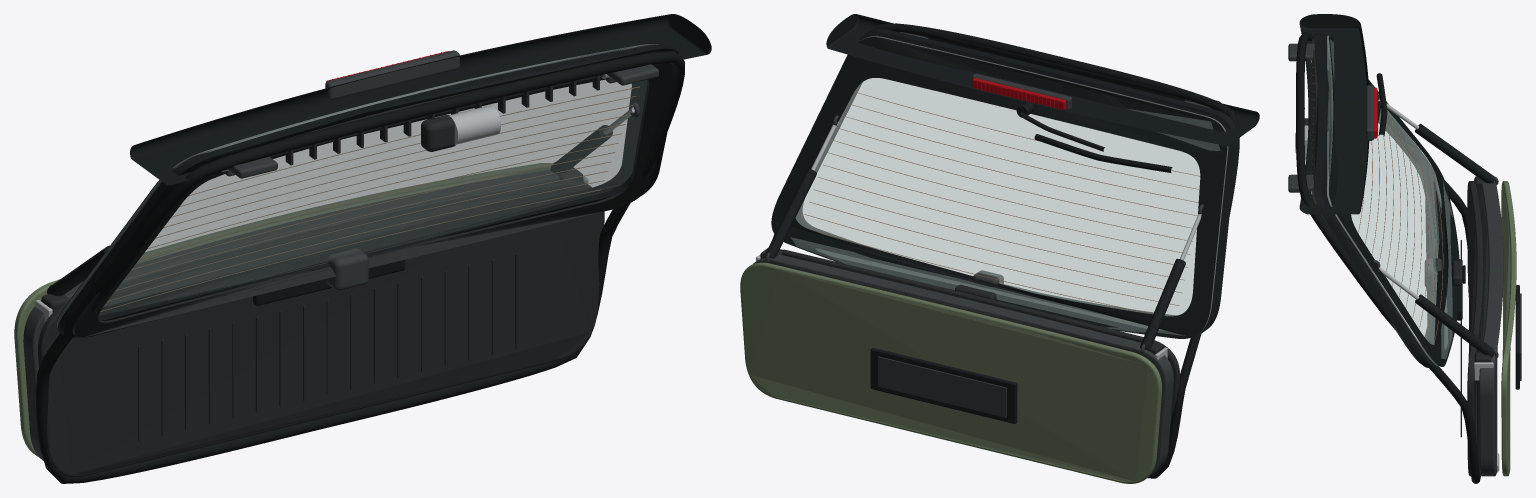
3 renders of one model, left to right at view 1: azimuth 30°, elevation 25°; view 2: azimuth 150°, elevation 25°; view 3: azimuth 270°, elevation 25°, orthographic. The views are drawn at different scales.
Parts seen in each view (by area): view 1: hatch-lower-trim, rear-glass, hatch-seal, hatch-spoiler, hatch-upper-trim, hatch-upper-frame, tailgate, hatch-lower-panel, hatch-brake-light, hatch-wiper-motor, hatch-upper-lock, hatch-strut-left--strut-barrel (+2 smaller); view 2: rear-glass, hatch-lower-panel, hatch-spoiler, hatch-upper-frame, tailgate, hatch-seal, hatch-lower-trim, hatch-wiper-arm, hatch-brake-light, hatch-strut-left--strut-barrel, hatch-strut-right--strut-barrel, hatch-upper-trim; view 3: rear-glass, hatch-spoiler, hatch-upper-frame, tailgate, hatch-seal, hatch-lower-panel, hatch-lower-trim, hatch-upper-trim, hatch-strut-left--strut-barrel, hatch-strut-right--strut-barrel, hatch-brake-light, hatch-wiper-arm (+5 smaller).
Part boxes in pixels (box(x1,y1,x2,y2)): hatch-lower-trim: box(38, 180, 604, 477); rear-glass: box(56, 43, 659, 327); hatch-seal: box(36, 50, 684, 483); hatch-spoiler: box(130, 14, 711, 185); hatch-upper-trim: box(72, 63, 672, 337); hatch-upper-frame: box(58, 44, 678, 337); tailgate: box(23, 170, 559, 460); hatch-lower-panel: box(14, 163, 552, 456); hatch-brake-light: box(325, 50, 459, 99); hatch-wiper-motor: box(421, 105, 500, 151); hatch-upper-lock: box(326, 248, 368, 290); hatch-strut-left--strut-barrel: box(550, 125, 612, 173); rear-glass: box(771, 36, 1228, 338); hatch-lower-panel: box(740, 262, 1161, 483); hatch-spoiler: box(826, 14, 1259, 146); hatch-upper-frame: box(777, 29, 1237, 333); tailgate: box(753, 254, 1173, 475); hatch-seal: box(773, 23, 1239, 478); hatch-lower-trim: box(779, 249, 1179, 422); hatch-wiper-arm: box(1016, 102, 1172, 172); hatch-brake-light: box(972, 73, 1071, 110); hatch-strut-left--strut-barrel: box(764, 168, 816, 258); hatch-strut-right--strut-barrel: box(1139, 258, 1185, 350); hatch-upper-trim: box(796, 82, 1176, 315); rear-glass: box(1327, 35, 1459, 366); hatch-spoiler: box(1299, 14, 1369, 214); hatch-upper-frame: box(1313, 33, 1443, 367); tailgate: box(1479, 181, 1503, 476); hatch-seal: box(1296, 32, 1480, 483); hatch-lower-panel: box(1501, 181, 1521, 476); hatch-lower-trim: box(1457, 181, 1483, 476); hatch-upper-trim: box(1312, 39, 1435, 363); hatch-strut-left--strut-barrel: box(1415, 294, 1495, 357); hatch-strut-right--strut-barrel: box(1415, 124, 1495, 183); hatch-brake-light: box(1366, 85, 1377, 140); hatch-wiper-arm: box(1376, 73, 1387, 136).
Size of the model in its own units: 1.3 by 0.9003 by 0.6305.
